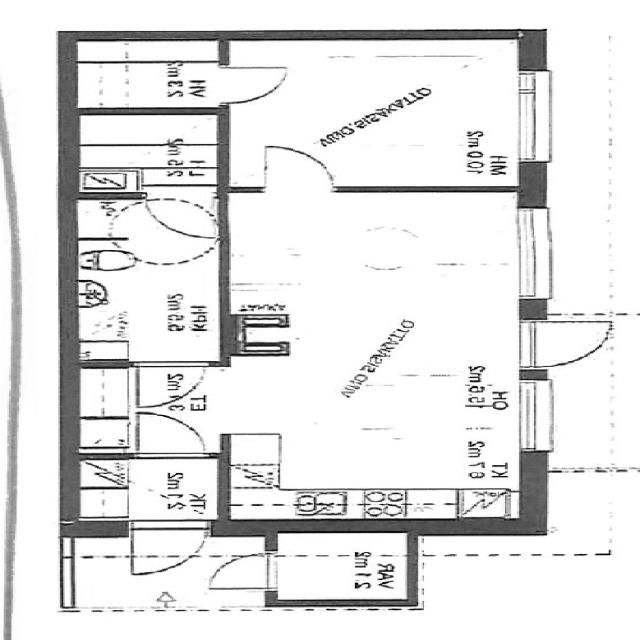door: (125, 522, 212, 579), (255, 142, 337, 192), (525, 319, 602, 372), (129, 408, 210, 458), (142, 192, 221, 238), (133, 364, 210, 410), (214, 63, 292, 107), (204, 549, 277, 592)
window: (506, 205, 554, 305), (510, 76, 552, 168), (511, 377, 555, 455)
zone: (223, 190, 542, 528), (230, 36, 525, 188), (72, 191, 225, 365), (70, 112, 225, 193), (67, 41, 240, 110), (269, 531, 413, 605), (73, 456, 225, 524), (75, 39, 217, 64)
